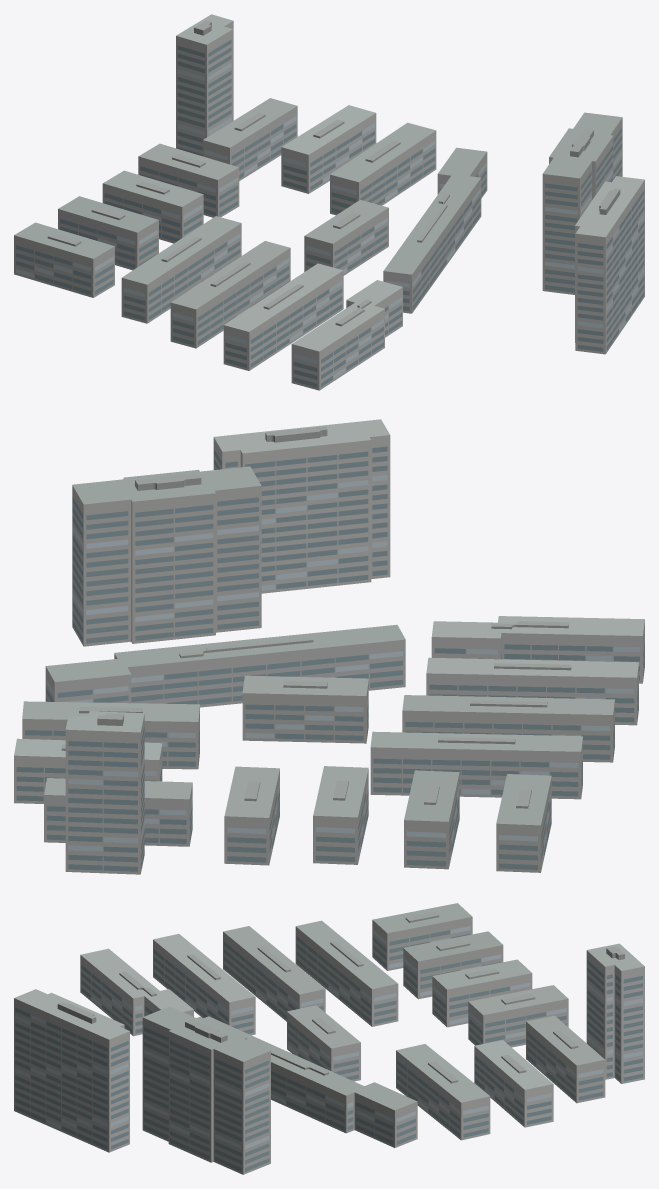
The model's file is apt-a13980407.glb.
3 views of the same model, one above another, from view 1: azimuth 30°, elevation 25°; view 2: azimuth 150°, elevation 25°; view 3: azimuth 270°, elevation 25° (orthographic). The views are drawn at different scales.
Visible parts, largest first — view 1: apt-a13980407; view 2: apt-a13980407; view 3: apt-a13980407.
Boxes of the visible parts, bbox=[...] form: apt-a13980407: bbox=[14, 14, 644, 390]; apt-a13980407: bbox=[14, 419, 644, 874]; apt-a13980407: bbox=[14, 903, 644, 1174].
Size of the model in its own units: 203 by 47.81 by 231.
